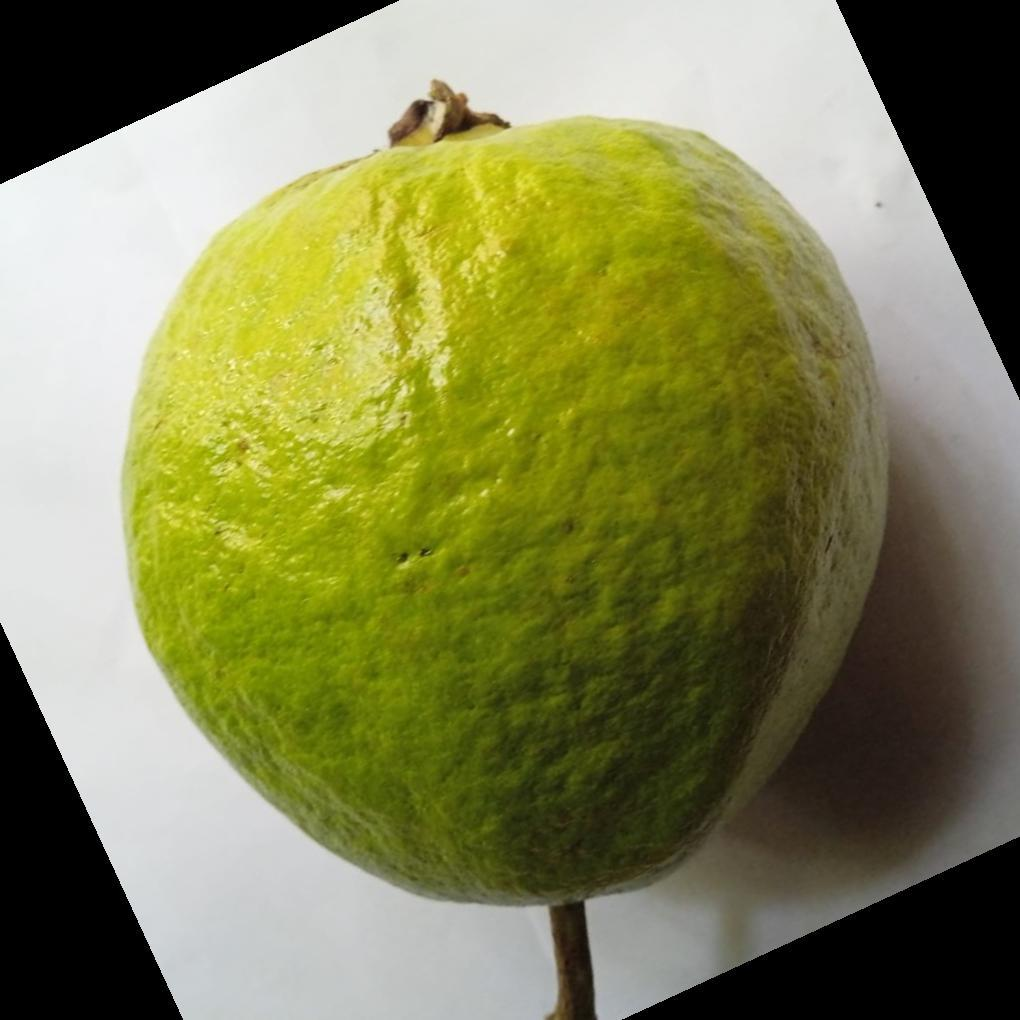FreshGuava: (120, 101, 890, 913)
